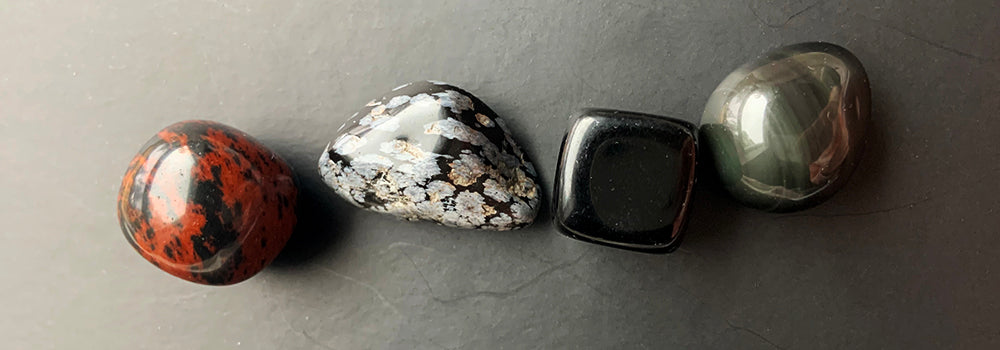Obsidian: (549, 85, 707, 272)
